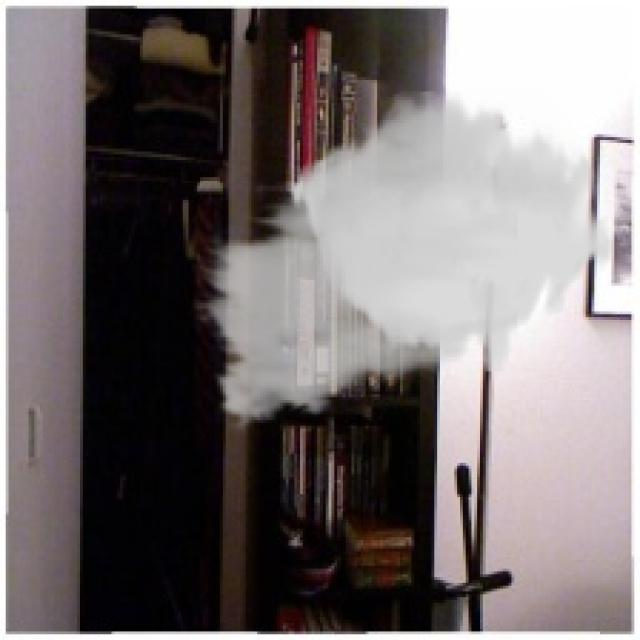smoke: (192, 92, 614, 437)
